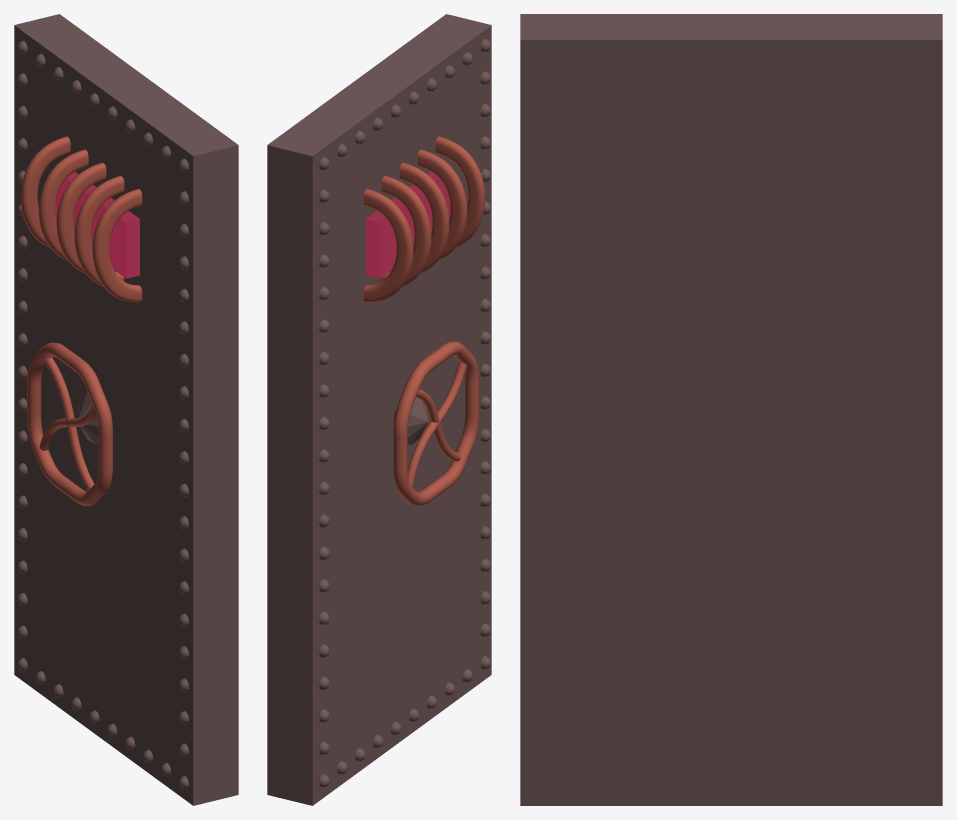
The model's file is EntranceDoor.gltf.
The picture shows the model from 3 angles, left to right: view 1: azimuth 30°, elevation 25°; view 2: azimuth 150°, elevation 25°; view 3: azimuth 270°, elevation 25°; orthographic projection. The views are drawn at different scales.
Parts seen in each view (by area): view 1: Door, Valve; view 2: Door, Valve; view 3: Door.
Part boxes in pixels (left/top/right/bottom): Door: left=14, top=14, right=238, bottom=805; Valve: left=27, top=342, right=112, bottom=506; Door: left=267, top=14, right=491, bottom=805; Valve: left=393, top=341, right=479, bottom=506; Door: left=520, top=14, right=942, bottom=805.
Size of the model in its own units: 0.2961 by 2 by 1.
